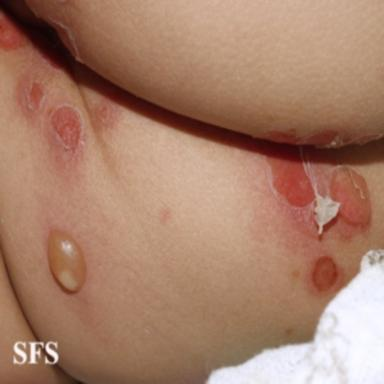Impetigo: (255, 142, 371, 238), (261, 126, 379, 148), (47, 230, 85, 292), (46, 102, 89, 155), (42, 14, 82, 62), (18, 72, 48, 115), (0, 10, 27, 52), (310, 256, 337, 291), (94, 97, 119, 131)
